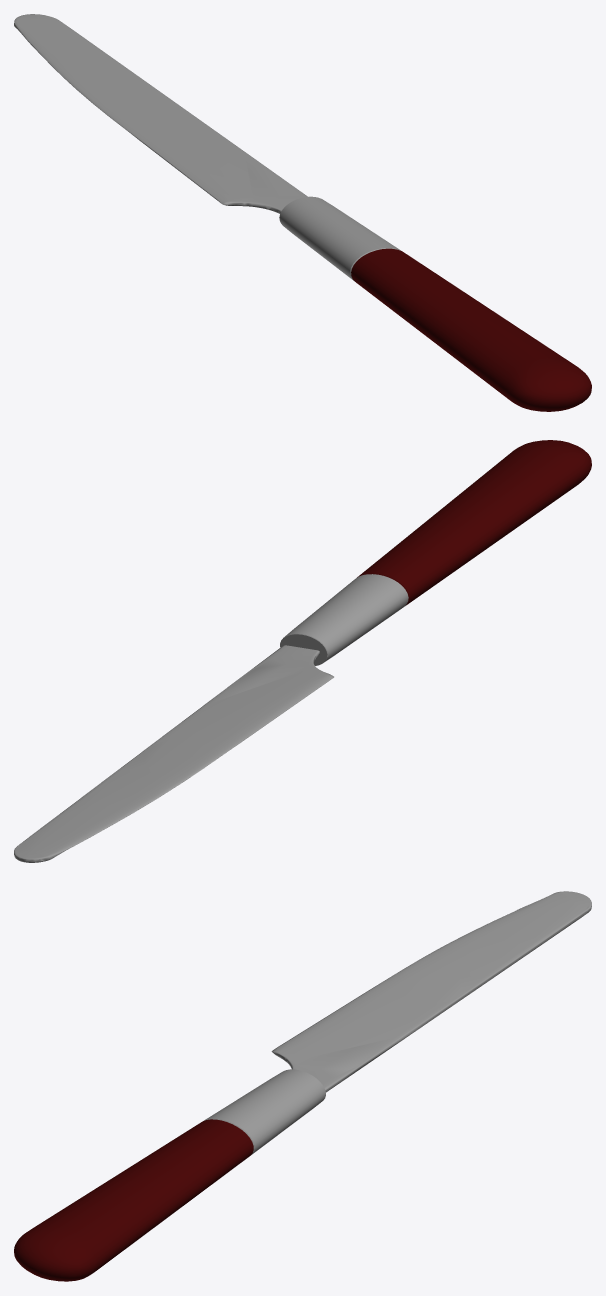
The model's file is knife.FBX.
3 views of the same model, one above another, from view 1: azimuth 30°, elevation 25°; view 2: azimuth 150°, elevation 25°; view 3: azimuth 330°, elevation 25° (orthographic). The views are drawn at different scales.
Visible parts, largest first — view 1: knife; view 2: knife; view 3: knife.
Part boxes in pixels (left/top/right/bottom): knife: left=14, top=14, right=591, bottom=411; knife: left=14, top=440, right=591, bottom=862; knife: left=14, top=891, right=591, bottom=1281.
Bounding box in the file's own units: 2.16 × 1.05 × 22.38.
